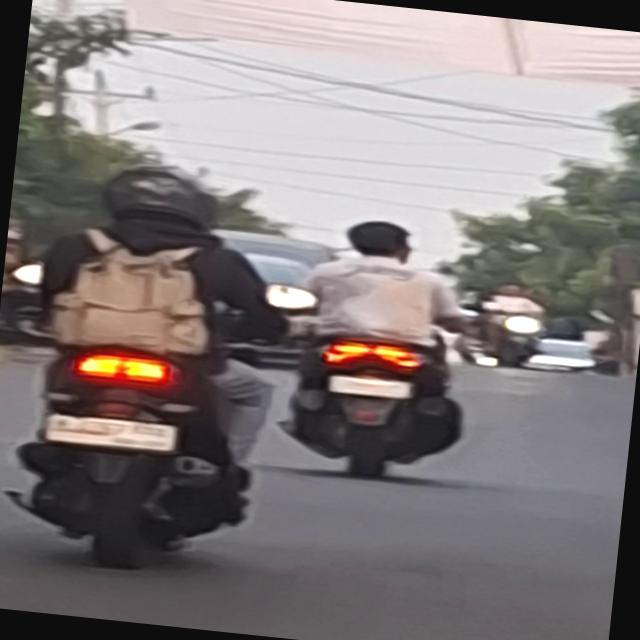WithHelmet: (5, 154, 306, 529), (277, 212, 486, 436)
